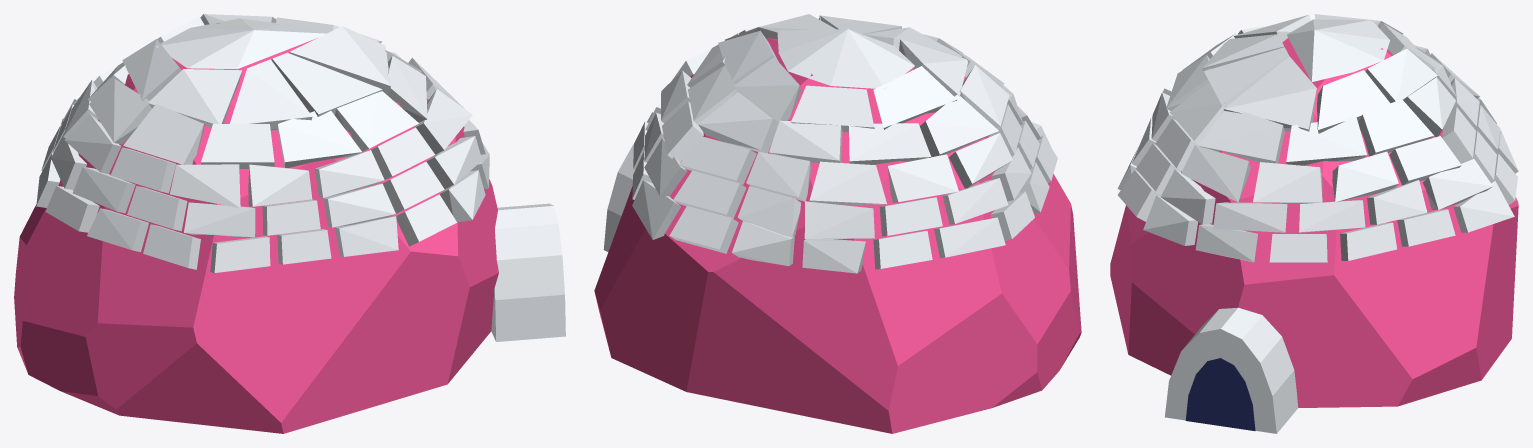
The model's file is IglooBoulder.fbx.
3 renders of one model, left to right at view 1: azimuth 30°, elevation 25°; view 2: azimuth 150°, elevation 25°; view 3: azimuth 270°, elevation 25°, orthographic. The views are drawn at different scales.
Parts seen in each view (by area): view 1: IglooBoulder_Bricks, IglooBoulder, IglooBoulder_Door; view 2: IglooBoulder_Bricks, IglooBoulder, IglooBoulder_Door; view 3: IglooBoulder_Bricks, IglooBoulder, IglooBoulder_Door, IglooBoulder_Door_Hole.
Boxes of the visible parts, box(x1,y1,x2,y2) form: IglooBoulder_Bricks: box(36, 14, 489, 272); IglooBoulder: box(14, 23, 498, 433); IglooBoulder_Door: box(491, 203, 565, 341); IglooBoulder_Bricks: box(632, 14, 1057, 273); IglooBoulder: box(594, 38, 1081, 433); IglooBoulder_Door: box(603, 144, 634, 251); IglooBoulder_Bricks: box(1117, 14, 1518, 262); IglooBoulder: box(1110, 38, 1518, 407); IglooBoulder_Door: box(1165, 307, 1298, 433); IglooBoulder_Door_Hole: box(1185, 358, 1255, 430).
Bounding box in the file's own units: 31.25 × 18.89 × 24.76.
